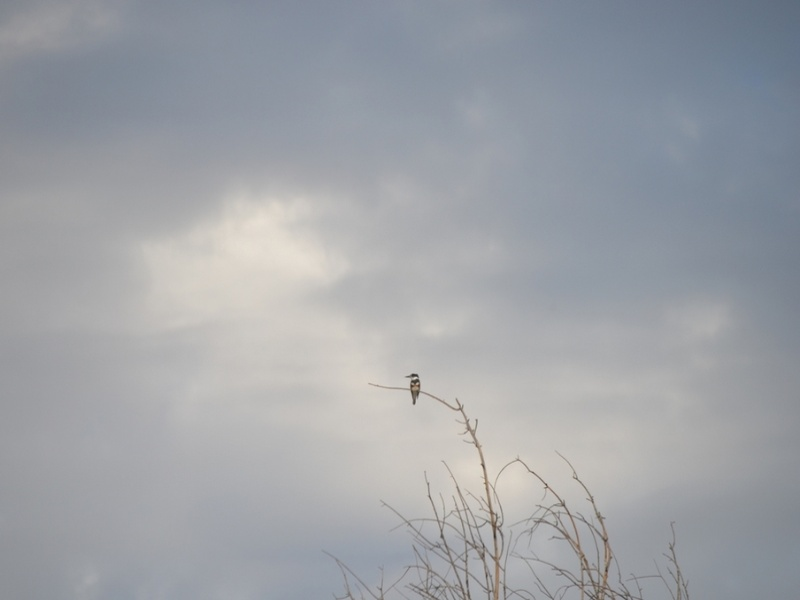kingfisher: (405, 372, 422, 404)
